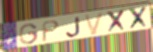G: (19, 23, 39, 46)
J: (64, 16, 81, 38)
P: (41, 20, 61, 44)
V: (83, 11, 105, 37)
X: (106, 8, 128, 35), (128, 5, 150, 31)
